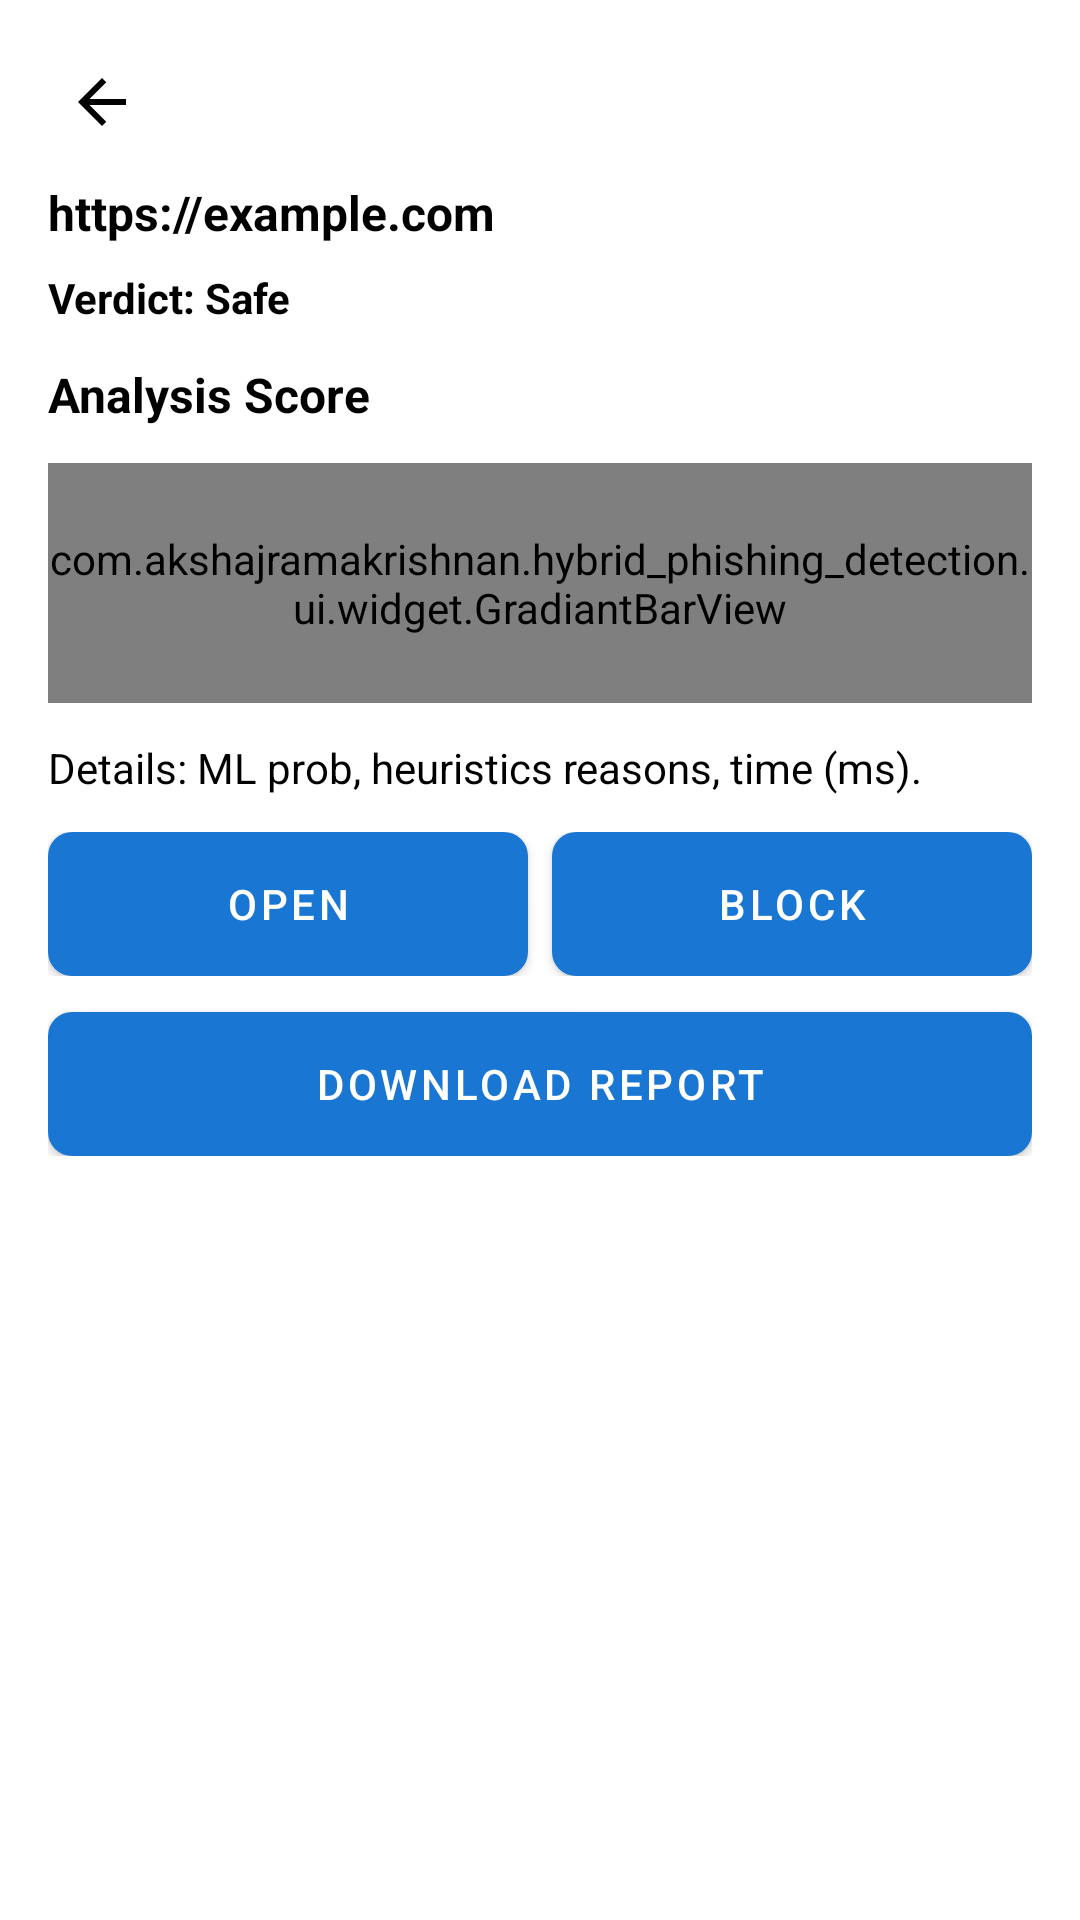

Where to tap for icons on this 1080px×1920px app screen, as [x,y]:
Back: [102,102]
